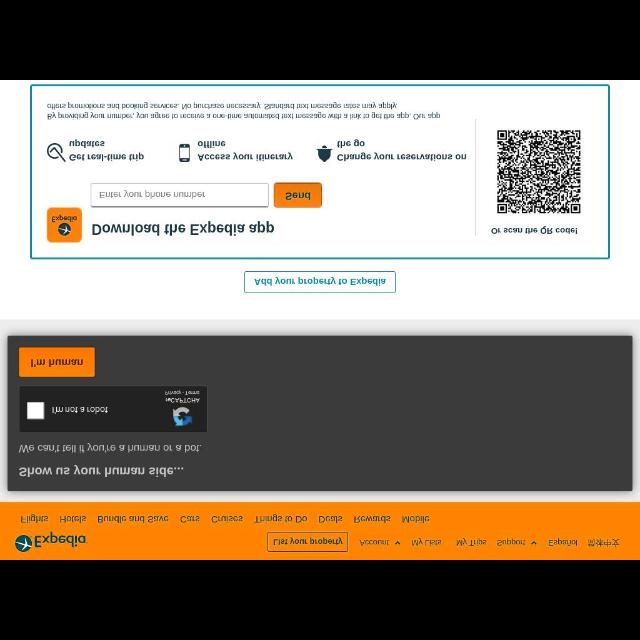checkbox: (28, 401, 44, 419)
icon: (47, 144, 67, 162), (317, 144, 333, 162), (179, 144, 191, 162), (530, 540, 538, 546), (395, 540, 401, 546)
image: (497, 130, 581, 214), (13, 530, 87, 554), (46, 208, 82, 242), (173, 406, 193, 426)
input: (92, 183, 268, 207)
multitab: (14, 508, 438, 530)
spinner: (358, 537, 402, 547), (495, 537, 537, 547)
text: (47, 100, 441, 120), (337, 138, 468, 162), (92, 220, 274, 236), (18, 464, 184, 478), (18, 442, 202, 454), (198, 140, 292, 160), (68, 139, 144, 161), (100, 189, 206, 199), (97, 514, 169, 524), (490, 226, 578, 234), (52, 405, 108, 415), (255, 514, 308, 524), (165, 391, 201, 404), (210, 514, 243, 524), (588, 537, 620, 547), (354, 515, 390, 523), (21, 514, 49, 524), (59, 514, 86, 524), (358, 539, 389, 547), (457, 538, 488, 546), (412, 538, 442, 546), (495, 538, 525, 546), (548, 538, 578, 546), (402, 515, 430, 523), (179, 514, 201, 524), (319, 515, 343, 523)
textbutton: (245, 272, 395, 292), (19, 347, 95, 378), (268, 532, 348, 552), (275, 182, 321, 208)
